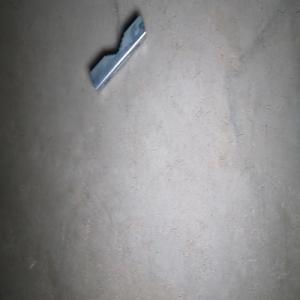ClampPart: (88, 13, 147, 93)
